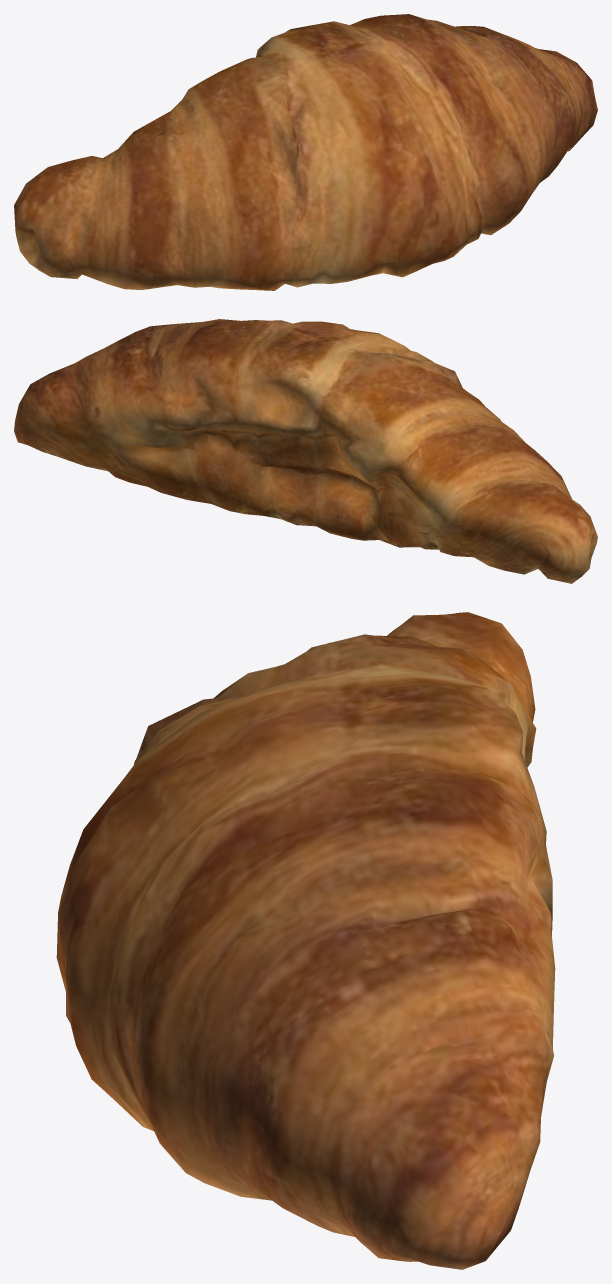
The picture shows the model from 3 angles, top to bottom: view 1: azimuth 30°, elevation 25°; view 2: azimuth 150°, elevation 25°; view 3: azimuth 270°, elevation 25°; orthographic projection. The views are drawn at different scales.
Parts seen in each view (by area): view 1: croissant; view 2: croissant; view 3: croissant.
Boxes of the visible parts, x1,y1,x2,y2 form: croissant: (14,14,597,290); croissant: (14,319,597,583); croissant: (56,612,555,1269).
Bounding box in the file's own units: 0.2 × 0.062 × 0.0755.
1 material, 1 textured.
